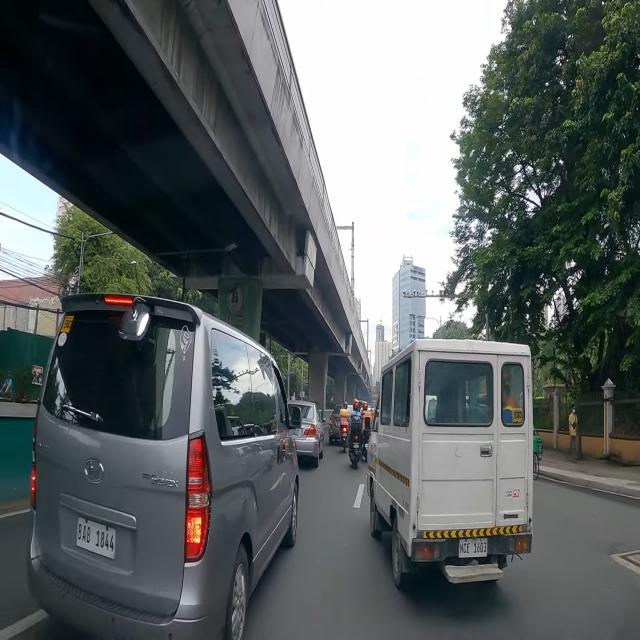bike: (532, 431, 542, 478)
car: (28, 294, 302, 640), (288, 399, 324, 466), (328, 403, 354, 447)
motorcycle: (348, 399, 362, 469), (361, 402, 372, 460), (340, 402, 350, 452)
truck: (366, 338, 534, 588)
